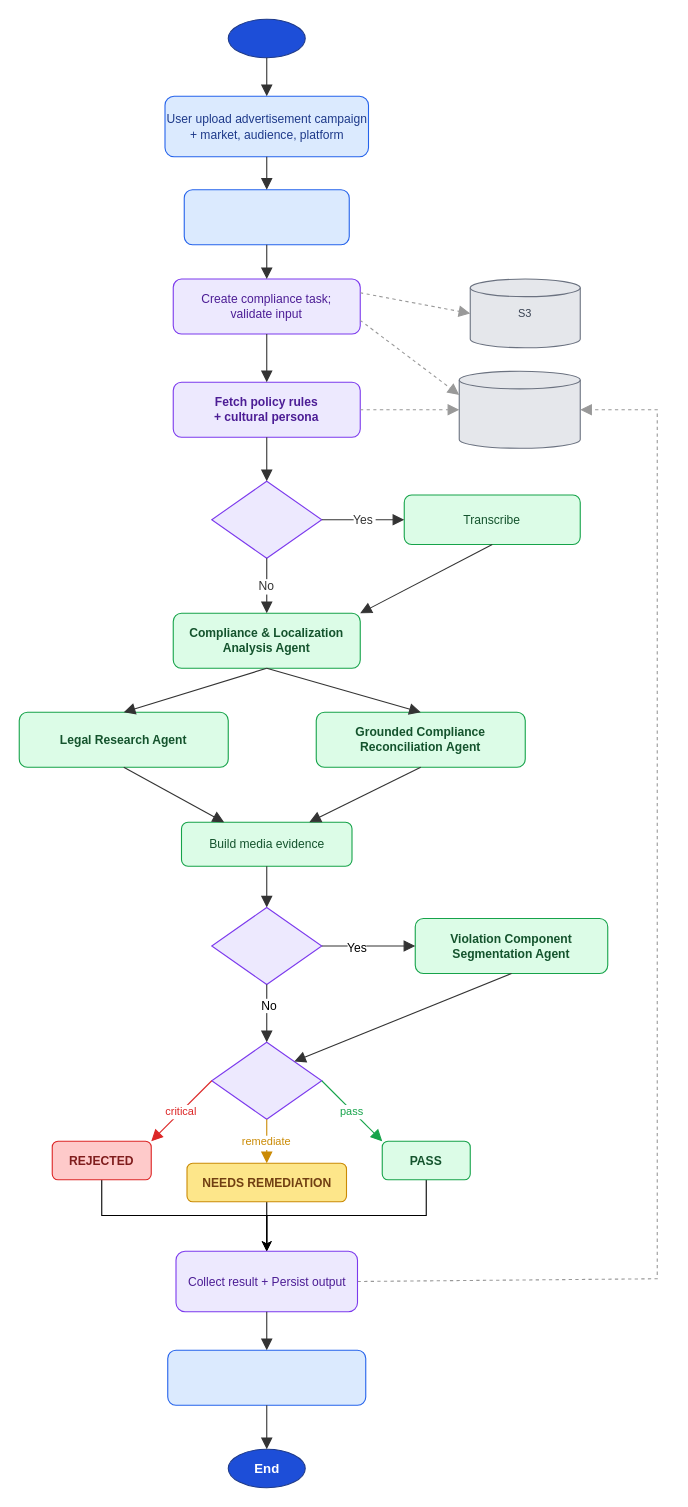
This 688x1507 diagram has some shape labels left out. Here are the shapes that lost their labels. From the top down, the box of each, then its label:
(227, 18, 305, 58): Start
(183, 189, 349, 245): Send request + read SSE events
(458, 370, 580, 448): Supabase
(211, 480, 322, 558): Audio or video?
(211, 906, 322, 985): Image?
(211, 1041, 322, 1119): Decision router
(167, 1349, 366, 1405): Display score, evidence, violations to reviewer
